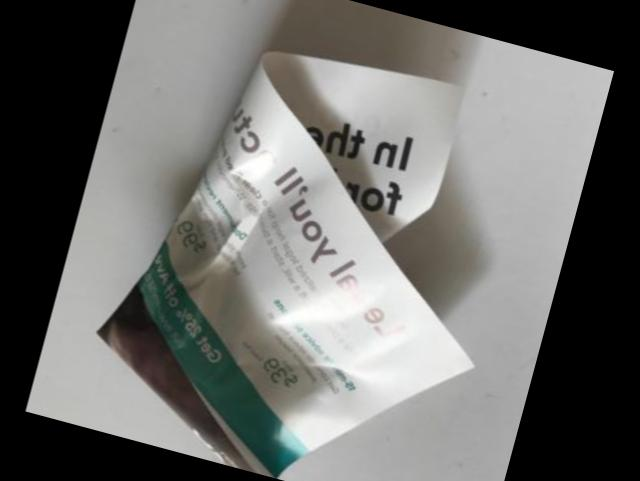cardboard paper: (101, 53, 474, 478)
